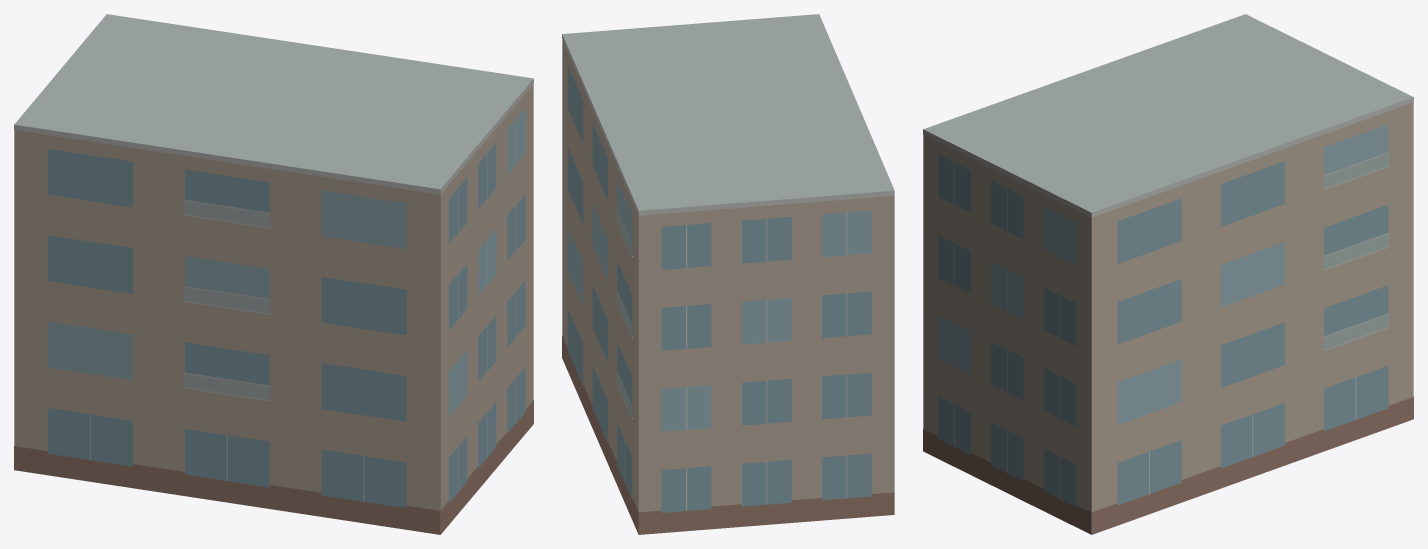
The model's file is survey-upis-32911259.glb.
3 renders of one model, left to right at view 1: azimuth 30°, elevation 25°; view 2: azimuth 150°, elevation 25°; view 3: azimuth 270°, elevation 25°, orthographic. The views are drawn at different scales.
Parts seen in each view (by area): view 1: survey-upis-32911259.tmp; view 2: survey-upis-32911259.tmp; view 3: survey-upis-32911259.tmp.
Part boxes in pixels (x1,y1,x2,y2): survey-upis-32911259.tmp: (14, 14, 533, 534); survey-upis-32911259.tmp: (562, 14, 894, 534); survey-upis-32911259.tmp: (923, 14, 1413, 534).
Size of the model in its own units: 20.92 by 15.8 by 21.82.
